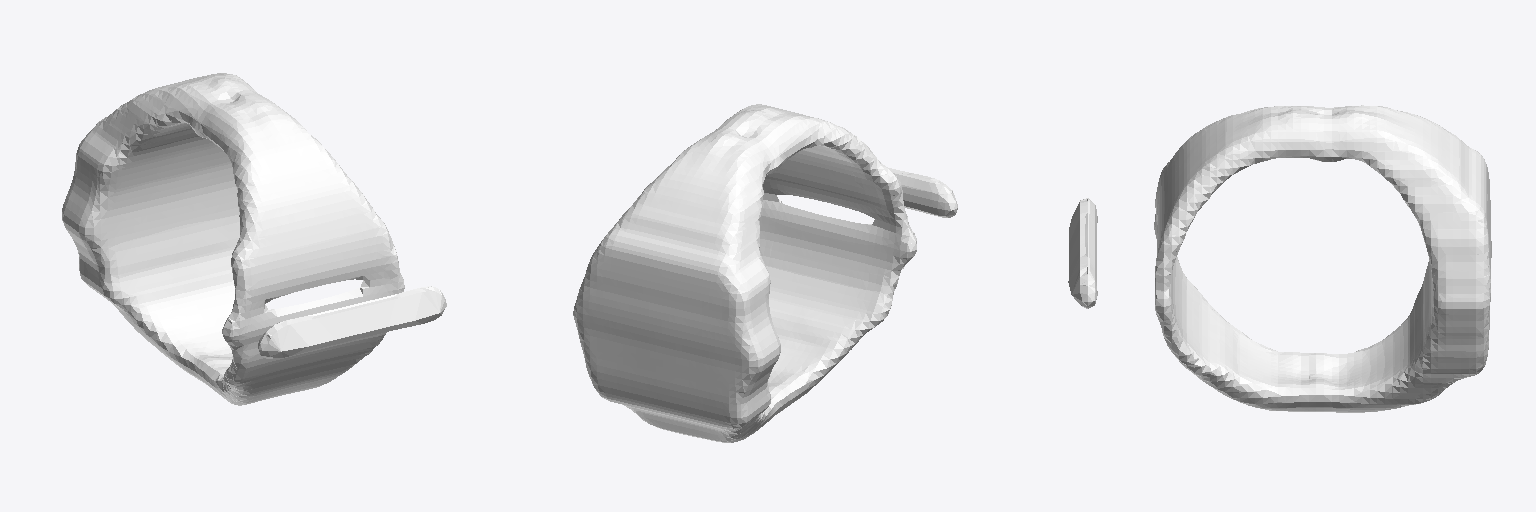
The model's file is tryit.obj.
3 views of the same model, side by side, from view 1: azimuth 30°, elevation 25°; view 2: azimuth 150°, elevation 25°; view 3: azimuth 270°, elevation 25° (orthographic).
Parts seen in each view (by area): view 1: LOD01_t_34_85_canon1_m1_1; view 2: LOD01_t_34_85_canon1_m1_1; view 3: LOD01_t_34_85_canon1_m1_1.
Part boxes in pixels (left/top/right/bottom): LOD01_t_34_85_canon1_m1_1: left=62, top=73, right=446, bottom=405; LOD01_t_34_85_canon1_m1_1: left=573, top=104, right=957, bottom=442; LOD01_t_34_85_canon1_m1_1: left=1068, top=105, right=1491, bottom=412.
Size of the model in its own units: 134 by 198 by 259.